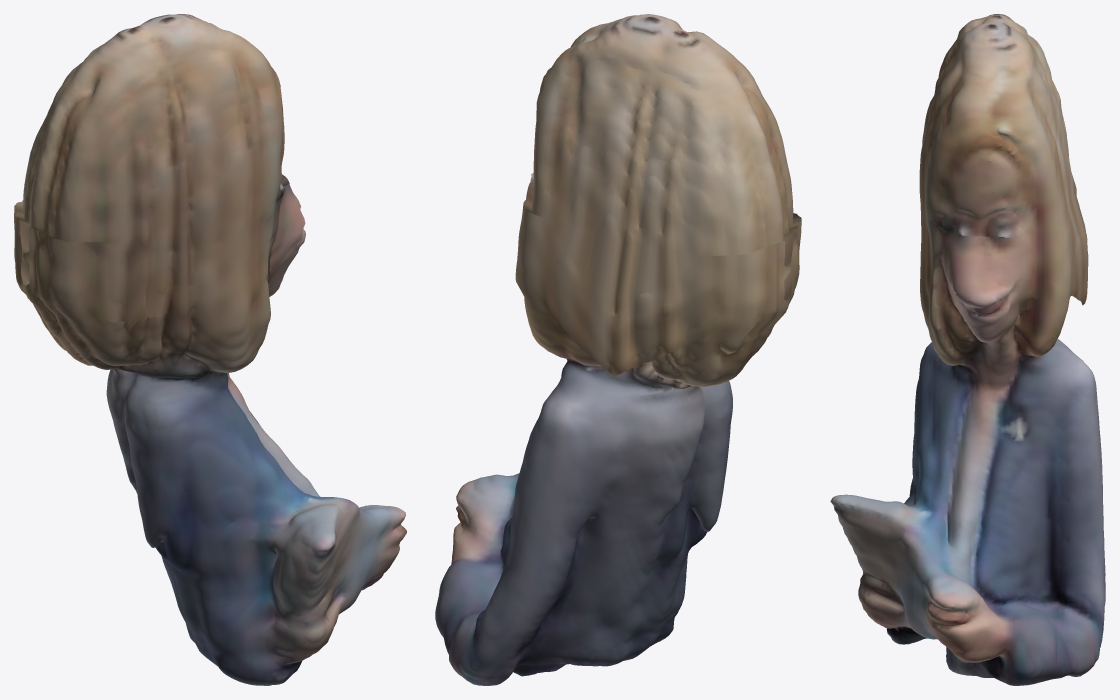
Rendered from aurore_blender_pixar.glb.
3 renders of one model, left to right at view 1: azimuth 30°, elevation 25°; view 2: azimuth 150°, elevation 25°; view 3: azimuth 270°, elevation 25°, orthographic. The views are drawn at different scales.
Visible parts, largest first — view 1: geometry_0; view 2: geometry_0; view 3: geometry_0.
Boxes of the visible parts, box(x1,y1,x2,y2) form: geometry_0: box(14, 14, 406, 685); geometry_0: box(435, 14, 801, 685); geometry_0: box(830, 14, 1105, 685).
Size of the model in its own units: 0.5339 by 0.9521 by 0.3942.
